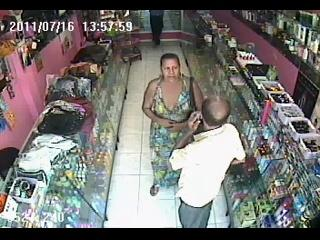Normal: (168, 96, 247, 228), (142, 53, 205, 197), (148, 10, 164, 48)
